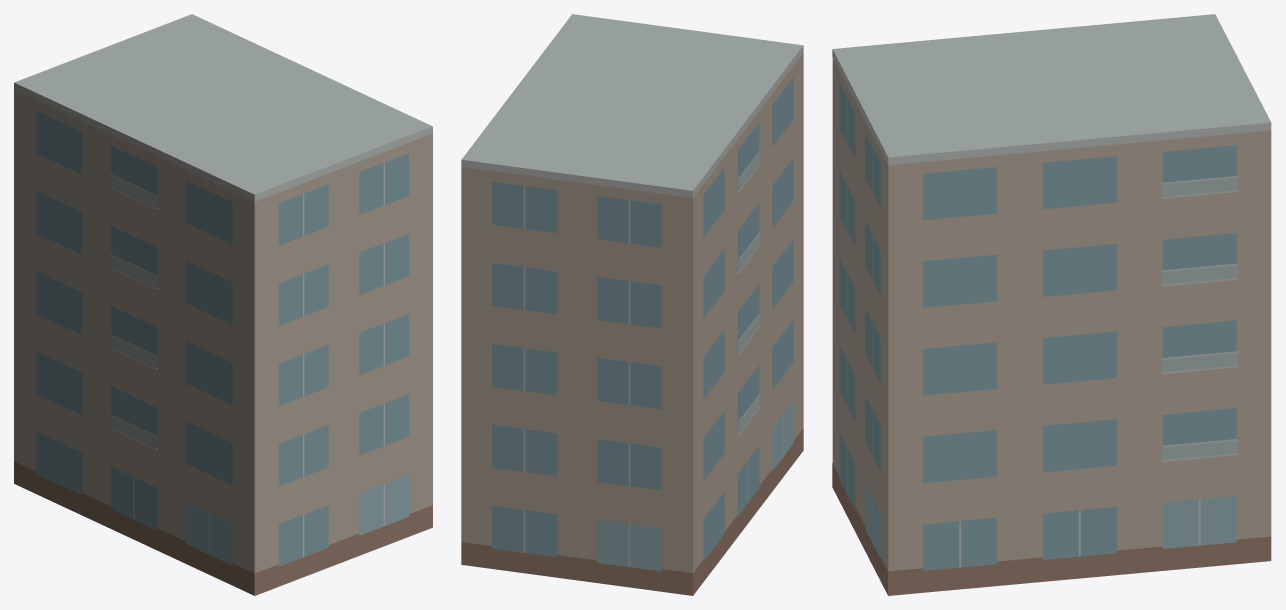
File: survey-upis-32982366.glb
The picture shows the model from 3 angles, left to right: view 1: azimuth 30°, elevation 25°; view 2: azimuth 150°, elevation 25°; view 3: azimuth 270°, elevation 25°; orthographic projection. The views are drawn at different scales.
Visible parts, largest first — view 1: survey-upis-32982366.tmp; view 2: survey-upis-32982366.tmp; view 3: survey-upis-32982366.tmp.
Boxes of the visible parts, box(x1,y1,x2,y2) form: survey-upis-32982366.tmp: box(14, 14, 432, 595); survey-upis-32982366.tmp: box(461, 14, 803, 595); survey-upis-32982366.tmp: box(832, 14, 1271, 595).
Size of the model in its own units: 9.7 by 13.8 by 12.53.
